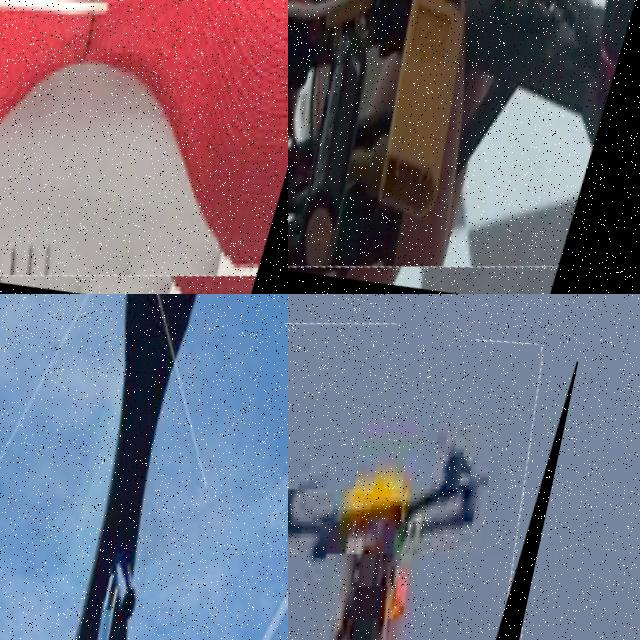0: (288, 294, 578, 640)
drone: (288, 0, 640, 294), (0, 294, 288, 640), (0, 0, 288, 294)
